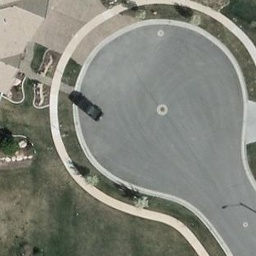car: (75, 92, 103, 123)
